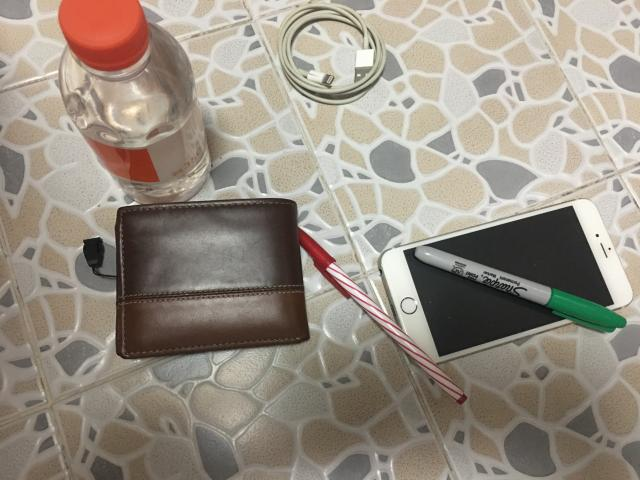Mobile phone: (379, 200, 632, 368)
Pen: (299, 228, 466, 404), (415, 246, 626, 332)
Wallet: (115, 199, 310, 359)
bottle: (59, 0, 210, 204)
wire: (278, 2, 386, 105)
